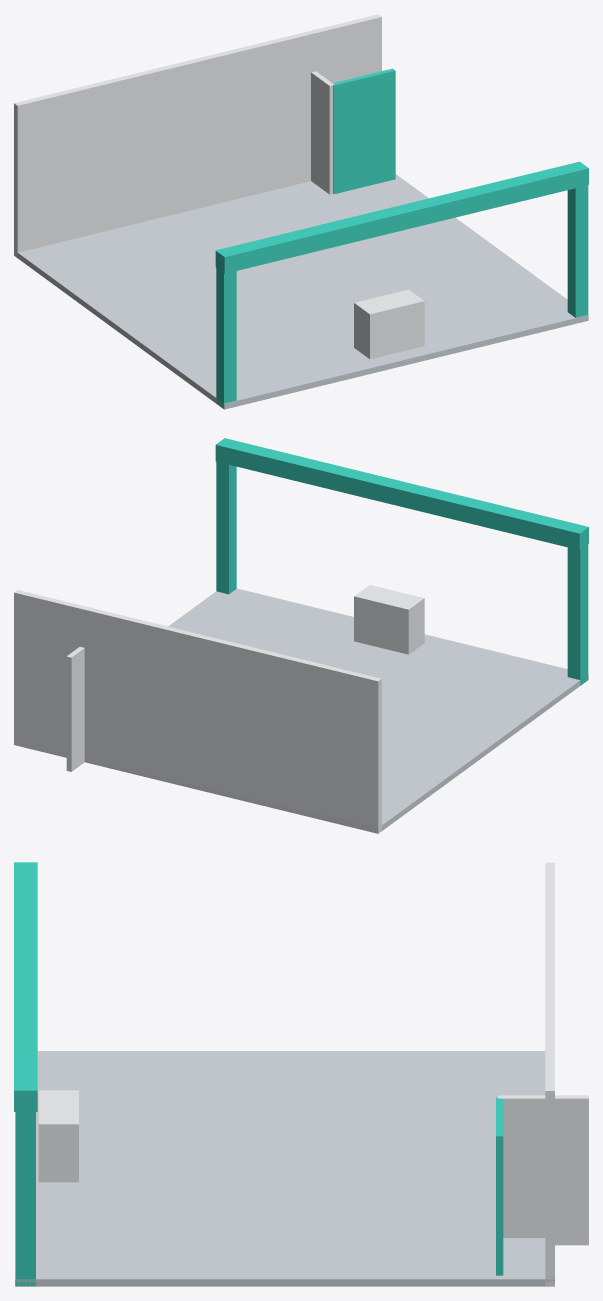
3 views of the same model, one above another, from view 1: azimuth 30°, elevation 25°; view 2: azimuth 150°, elevation 25°; view 3: azimuth 270°, elevation 25° (orthographic). The views are drawn at different scales.
Parts seen in each view (by area): view 1: Exhibition Booth Concept; view 2: Exhibition Booth Concept; view 3: Exhibition Booth Concept.
Boxes of the visible parts, x1,y1,x2,y2 form: Exhibition Booth Concept: (14, 14, 588, 409); Exhibition Booth Concept: (14, 438, 588, 833); Exhibition Booth Concept: (14, 862, 588, 1286).
Size of the model in its own units: 8 by 3.2 by 8.52.
